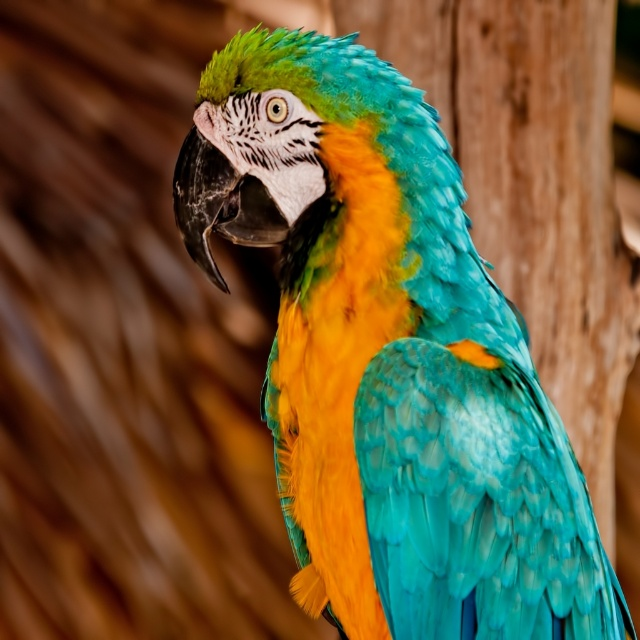Parrot: (171, 24, 636, 639)
